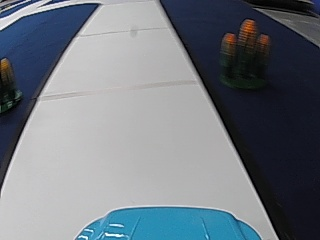corn: (219, 15, 271, 91), (0, 55, 23, 112)
